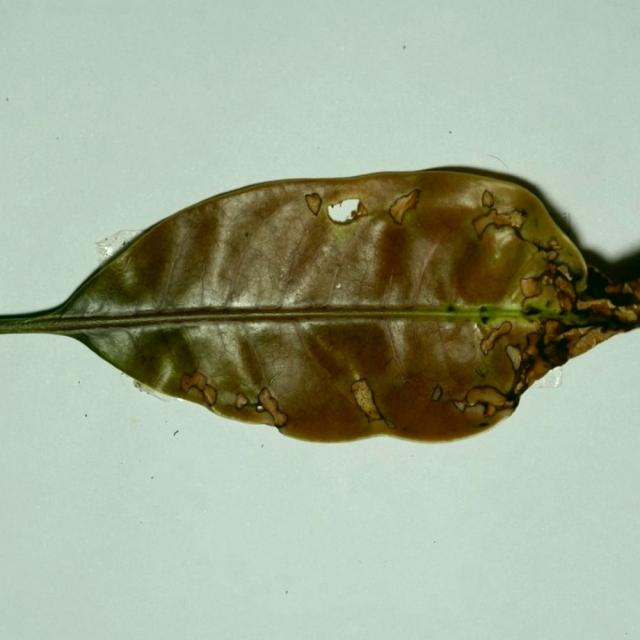Anthracnose: (471, 189, 529, 243), (348, 377, 392, 428), (93, 230, 139, 261), (325, 198, 374, 227), (179, 370, 216, 406), (387, 188, 421, 225), (480, 320, 513, 357), (519, 276, 542, 298), (304, 192, 322, 216), (430, 384, 443, 402), (335, 282, 341, 289)
Mango: (0, 166, 639, 447)
